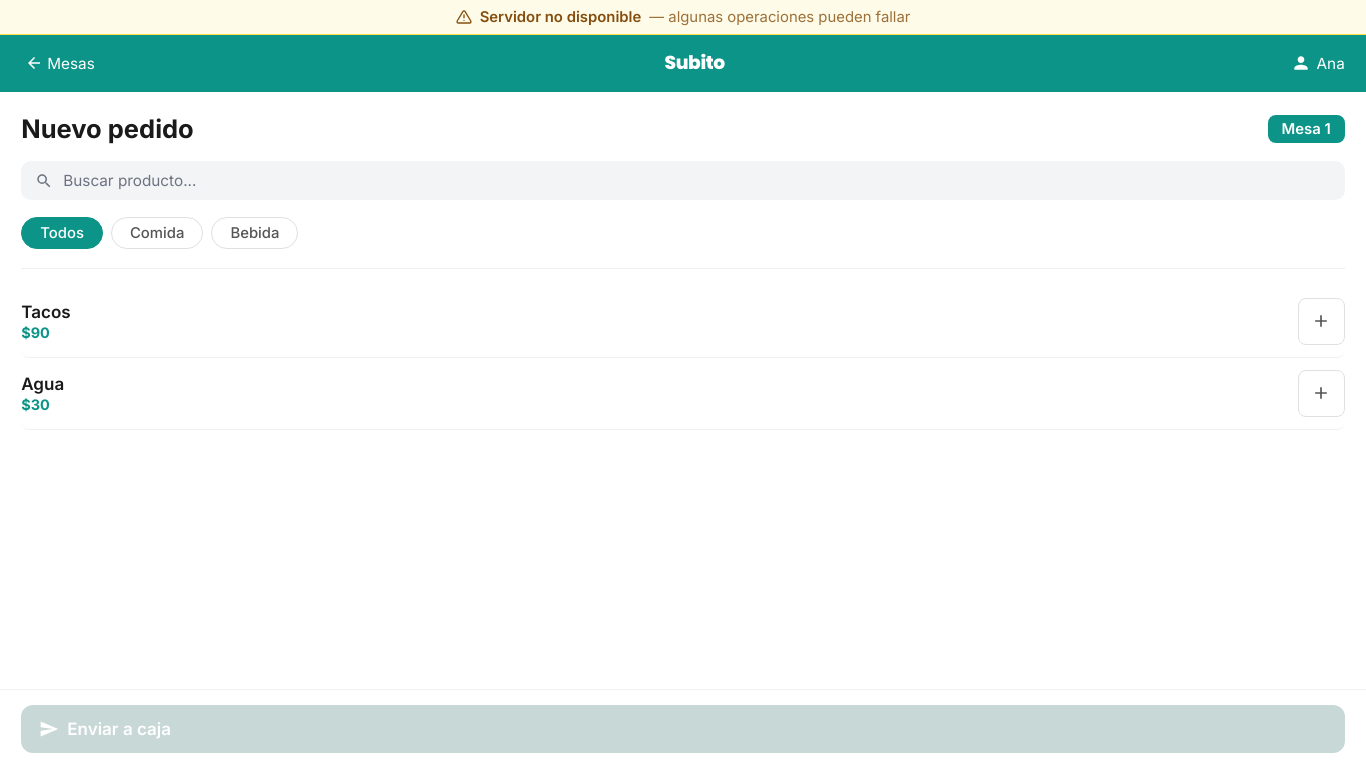
Test: Service — order view › clears the search filter
In the field with class "search-input": (697, 181) [63,171,1331,190], type "Taco"
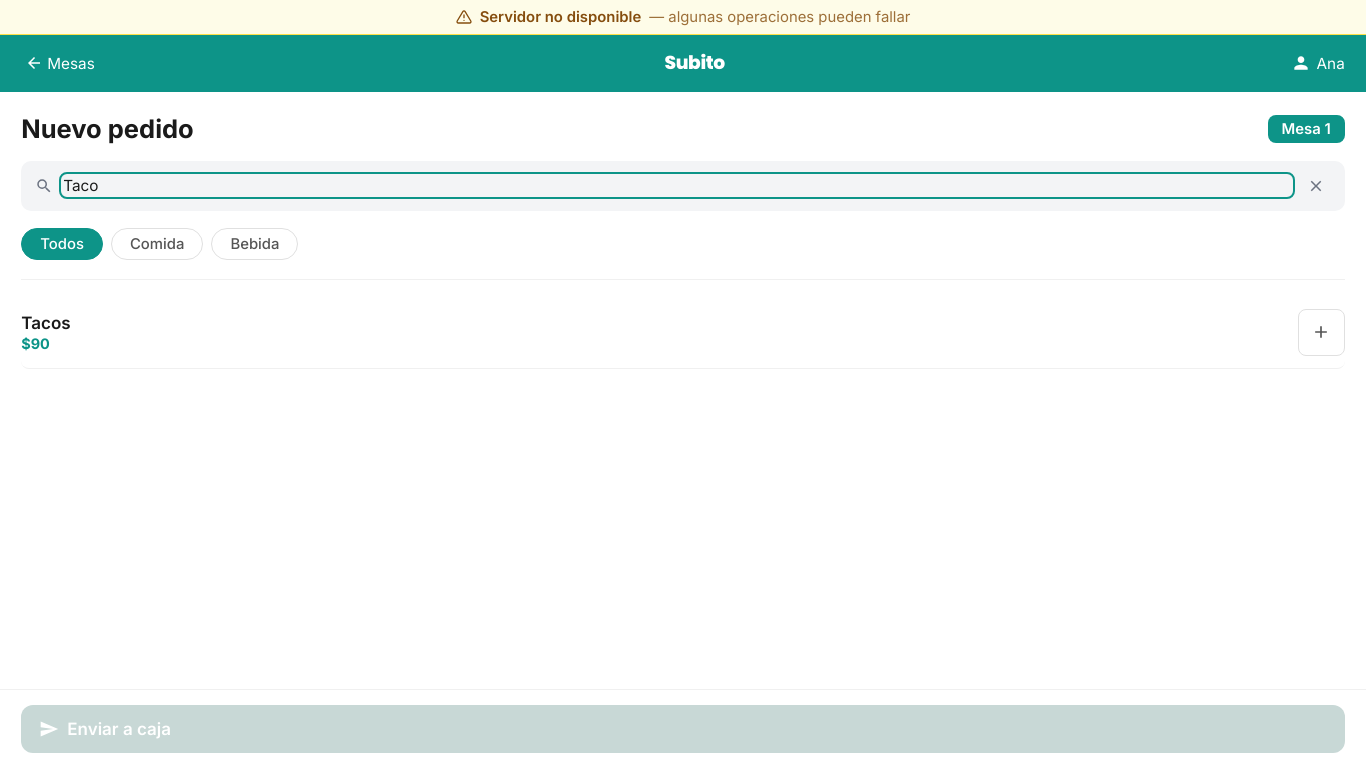
Now the button "Agua" is gone
Clear the field with class "search-input": (677, 186) [63,176,1291,195]
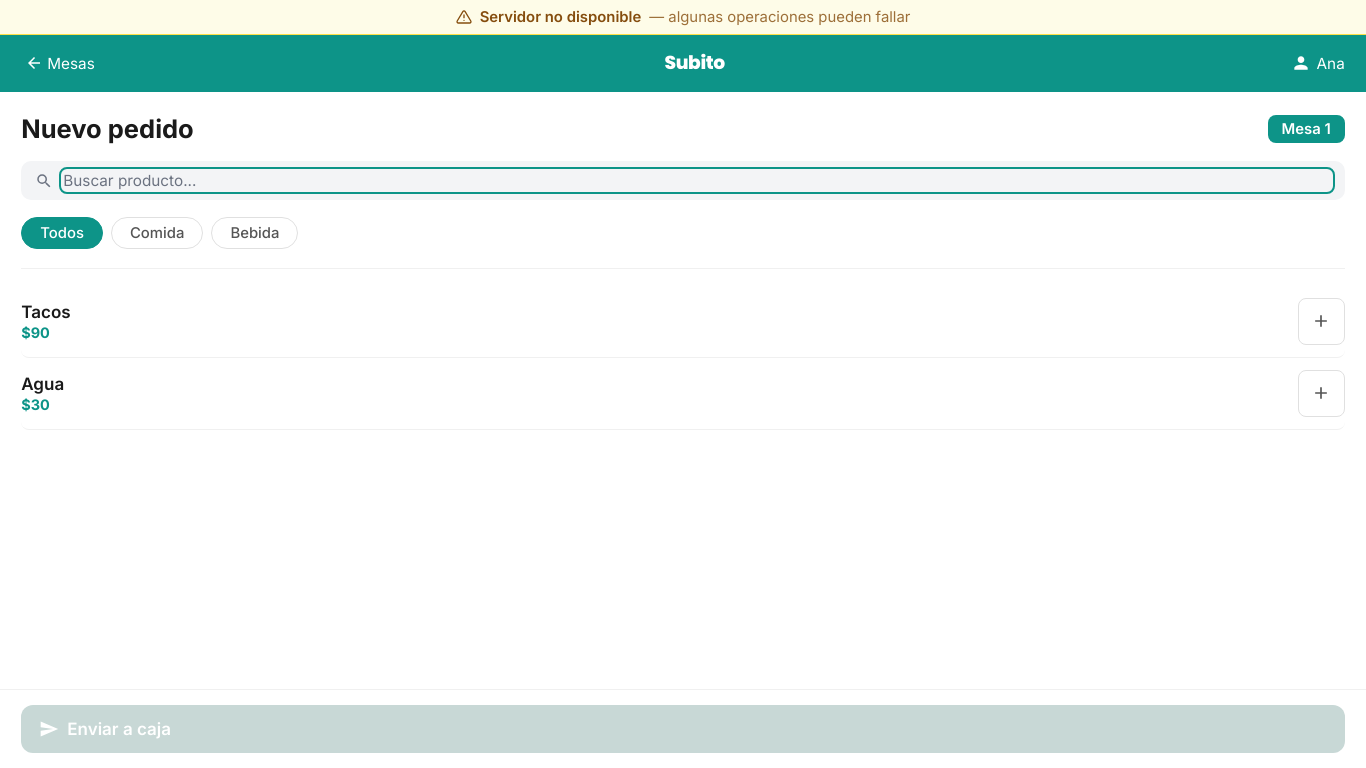
Now the button "Agua $30" is shown, box [21,358,1345,430]
